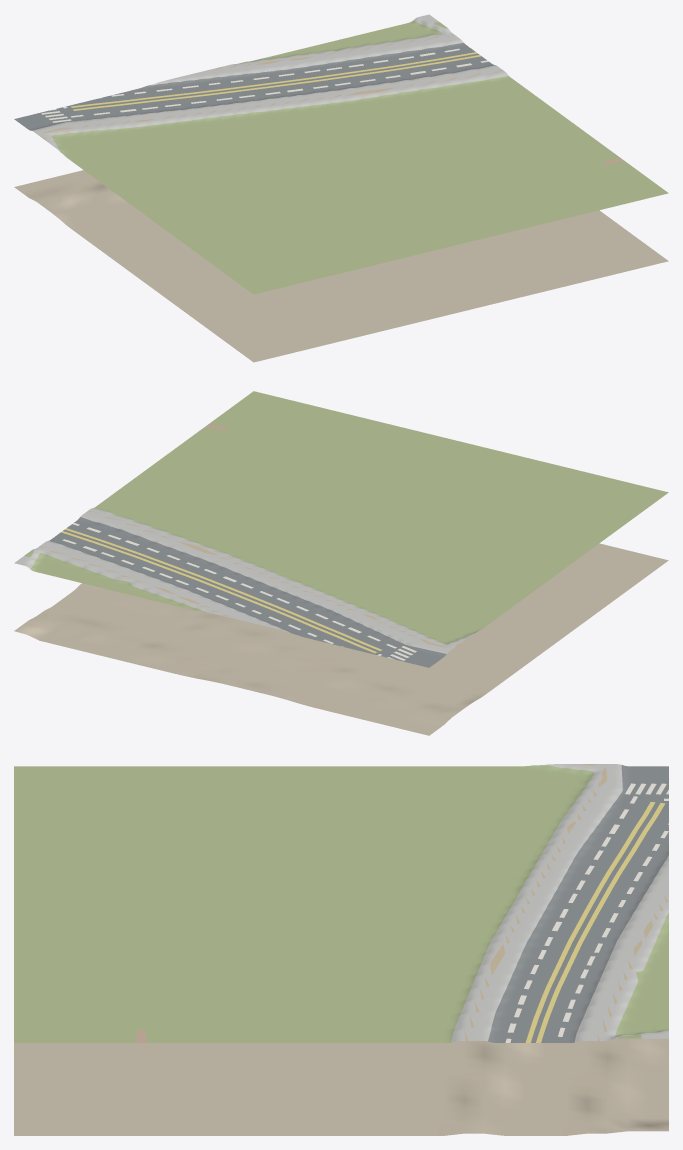
3 renders of one model, top to bottom at view 1: azimuth 30°, elevation 25°; view 2: azimuth 150°, elevation 25°; view 3: azimuth 270°, elevation 25°, orthographic. The views are drawn at different scales.
Visible parts, largest first — view 1: s_-2_-3__grass, s_-2_-3__soil, s_-2_-3__asphalt, s_-2_-3__stone_paving, s_-2_-3__yellow_marking, s_-2_-3__white_marking, s_-2_-3__timber_deck; view 2: s_-2_-3__grass, s_-2_-3__soil, s_-2_-3__asphalt, s_-2_-3__stone_paving, s_-2_-3__yellow_marking, s_-2_-3__white_marking, s_-2_-3__timber_deck; view 3: s_-2_-3__grass, s_-2_-3__soil, s_-2_-3__asphalt, s_-2_-3__stone_paving, s_-2_-3__yellow_marking, s_-2_-3__white_marking, s_-2_-3__timber_deck.
Part boxes in pixels (box(x1,y1,x2,y2)): s_-2_-3__grass: box(51, 21, 668, 294); s_-2_-3__soil: box(14, 170, 668, 362); s_-2_-3__asphalt: box(14, 42, 494, 130); s_-2_-3__stone_paving: box(32, 14, 508, 151); s_-2_-3__yellow_marking: box(71, 52, 481, 110); s_-2_-3__white_marking: box(41, 47, 488, 122); s_-2_-3__timber_deck: box(40, 34, 503, 140); s_-2_-3__grass: box(24, 391, 668, 644); s_-2_-3__soil: box(14, 543, 668, 735); s_-2_-3__asphalt: box(49, 517, 446, 667); s_-2_-3__stone_paving: box(14, 508, 474, 653); s_-2_-3__yellow_marking: box(61, 528, 381, 653); s_-2_-3__white_marking: box(62, 523, 416, 660); s_-2_-3__timber_deck: box(39, 510, 461, 647); s_-2_-3__grass: box(14, 765, 668, 1042); s_-2_-3__soil: box(14, 1038, 668, 1135); s_-2_-3__asphalt: box(488, 765, 668, 1042); s_-2_-3__stone_paving: box(451, 764, 668, 1042); s_-2_-3__yellow_marking: box(525, 802, 665, 1042); s_-2_-3__white_marking: box(505, 783, 668, 1042); s_-2_-3__timber_deck: box(464, 764, 668, 1040).
Size of the model in its own units: 128 by 21.01 by 128.
